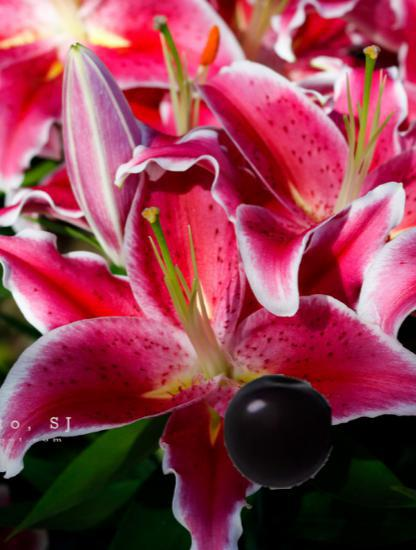Cherry: (221, 374, 337, 490)
